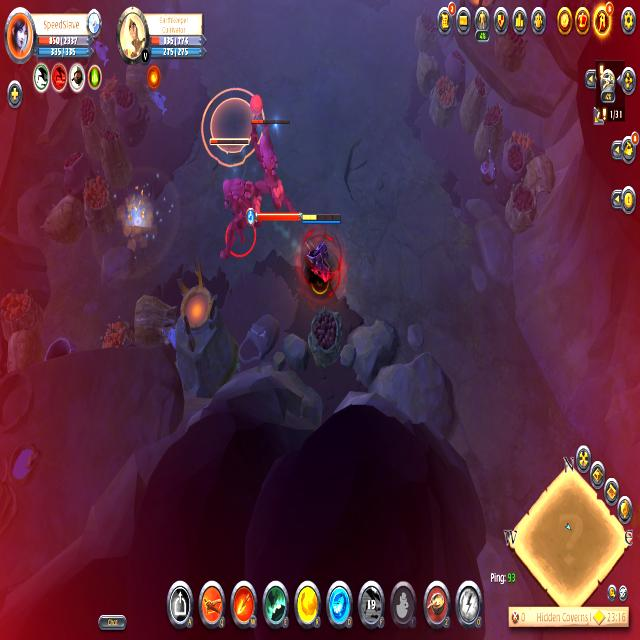ore: (203, 136, 263, 271), (248, 107, 297, 231)
red: (297, 207, 351, 300)
silver: (200, 86, 268, 168)
